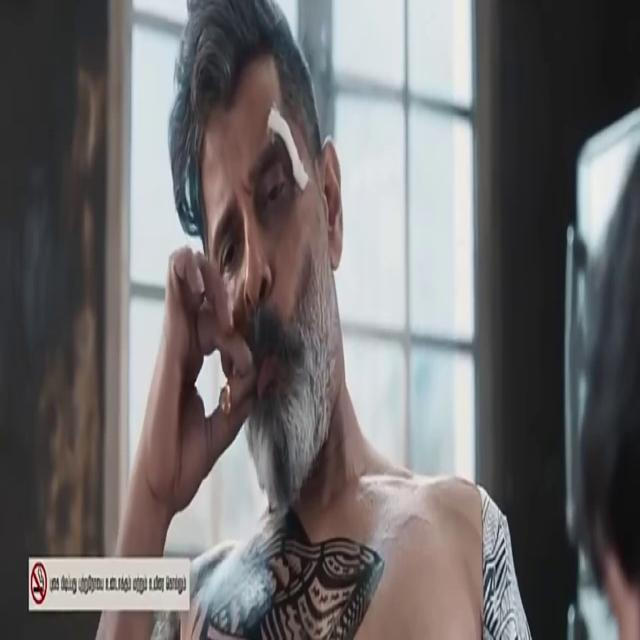smoking: (154, 242, 332, 478)
